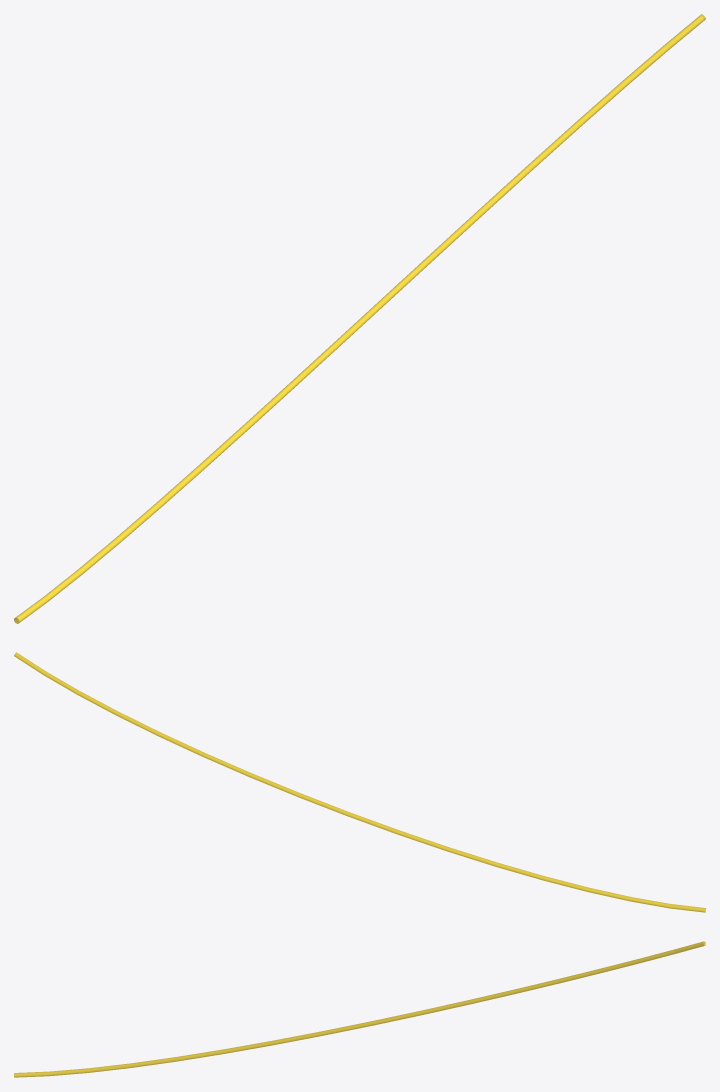
File: Event_17758602_track_51.fbx
3 renders of one model, top to bottom at view 1: azimuth 30°, elevation 25°; view 2: azimuth 150°, elevation 25°; view 3: azimuth 330°, elevation 25°, orthographic. The views are drawn at different scales.
Visible parts, largest first — view 1: Model; view 2: Model; view 3: Model.
Part boxes in pixels (x1=…): Model: x1=14, y1=14, x2=705, y2=623; Model: x1=14, y1=652, x2=705, y2=912; Model: x1=14, y1=941, x2=705, y2=1077.
Bounding box in the file's own units: 5.73 × 1.86 × 1.89.
